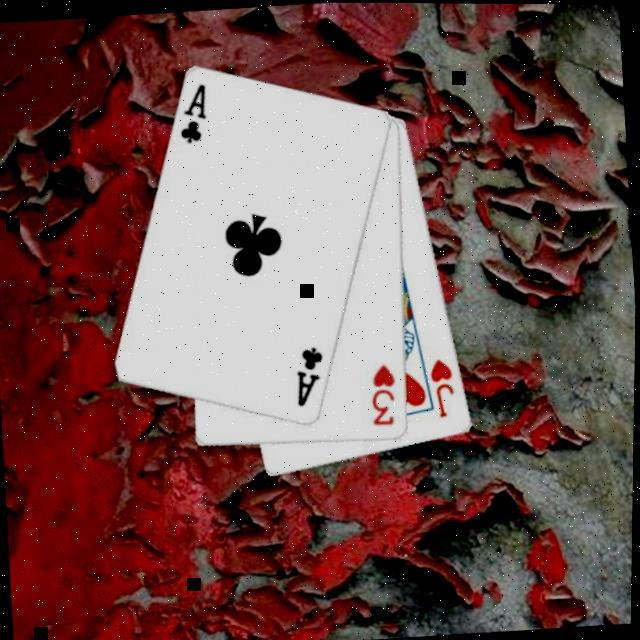3H: (364, 358, 400, 426)
AC: (171, 78, 211, 146), (289, 341, 328, 407)
JH: (425, 353, 458, 419)
